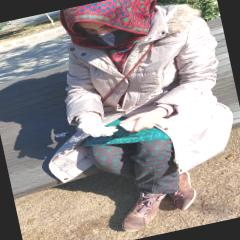gloved: (76, 109, 118, 142)
not-gloved: (122, 103, 172, 136)
